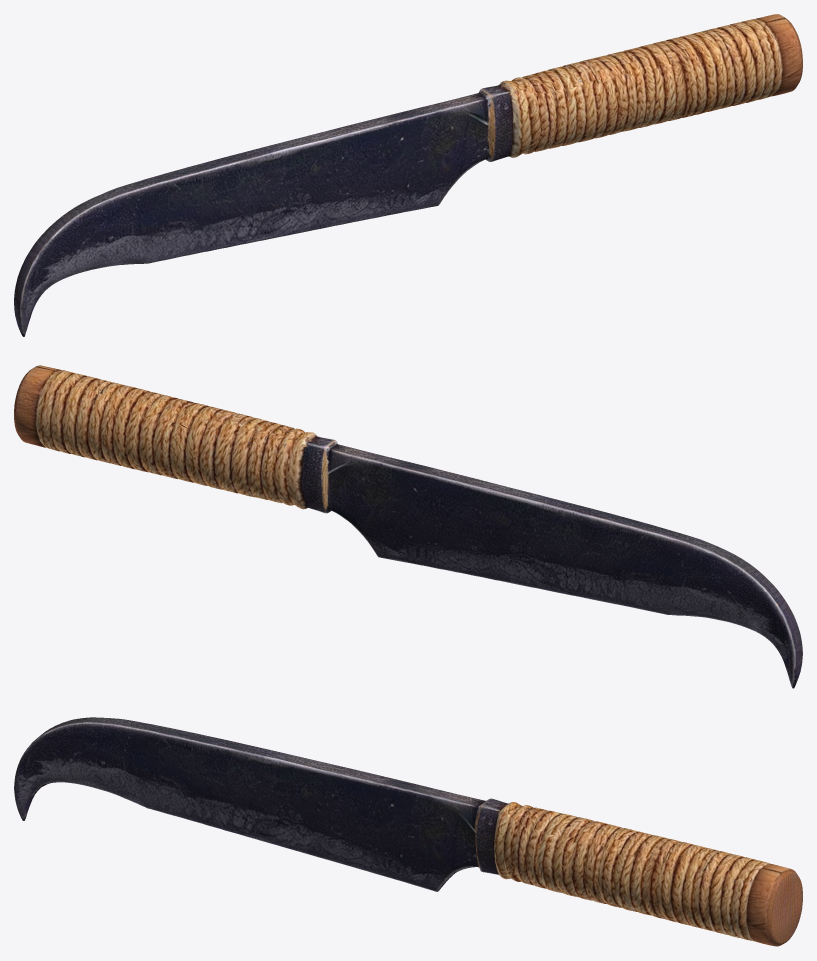
The model's file is chopper.glb.
The picture shows the model from 3 angles, top to bottom: view 1: azimuth 30°, elevation 25°; view 2: azimuth 150°, elevation 25°; view 3: azimuth 330°, elevation 25°; orthographic projection.
Parts seen in each view (by area): view 1: tg_chopper; view 2: tg_chopper; view 3: tg_chopper.
Boxes of the visible parts, box(x1,y1,x2,y2) form: tg_chopper: box(14, 14, 802, 336); tg_chopper: box(14, 365, 802, 688); tg_chopper: box(14, 717, 802, 946).
Bounding box in the file's own units: 1 × 0.1682 × 0.0819.
1 material, 1 textured.
